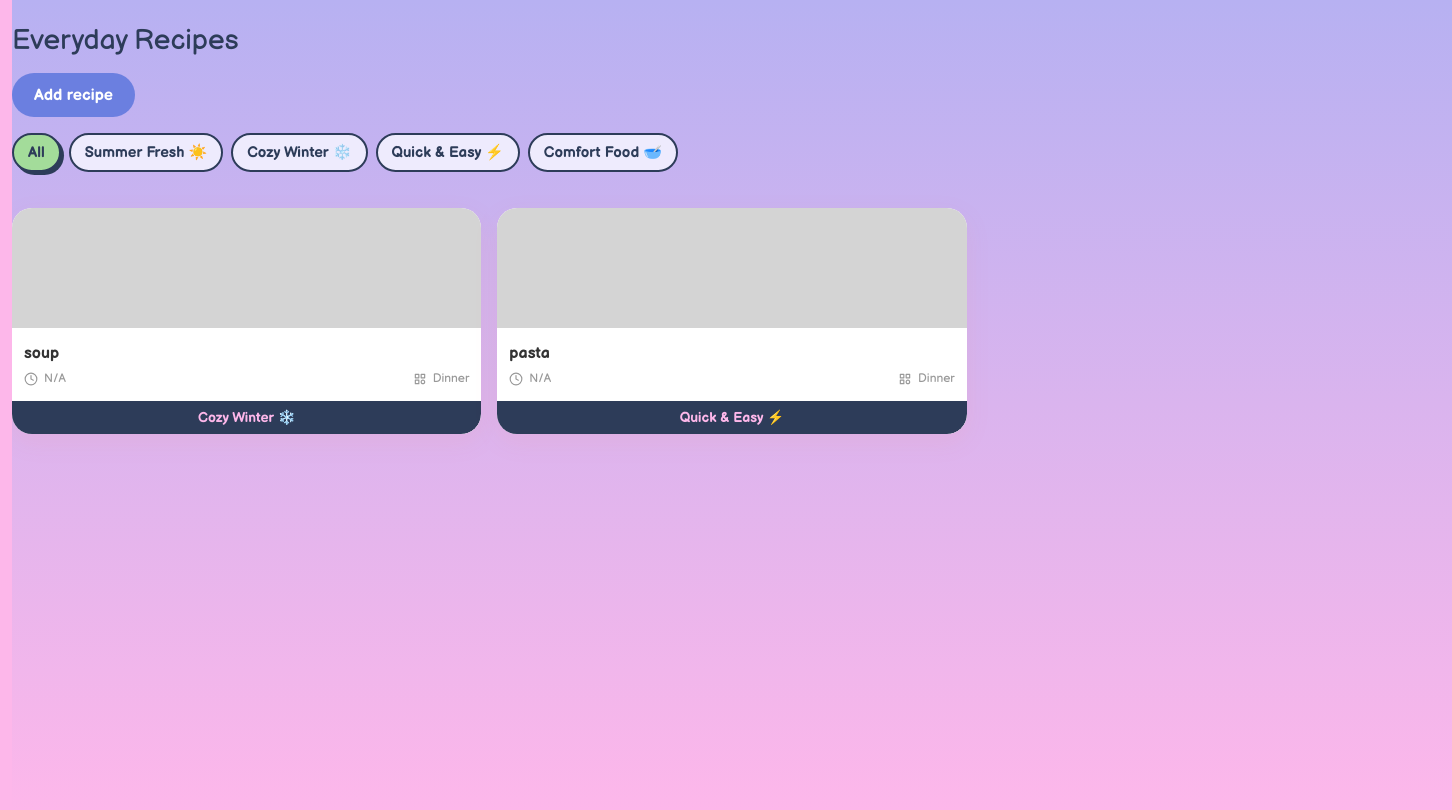
Test: RecipesScreen label filter › says so when no recipe has the chosen label
What coordinates should you click on to do the following:
click the button "Comfort Food 🥣"
I would click on:
 (603, 152)
Its box is [528,133,678,172].
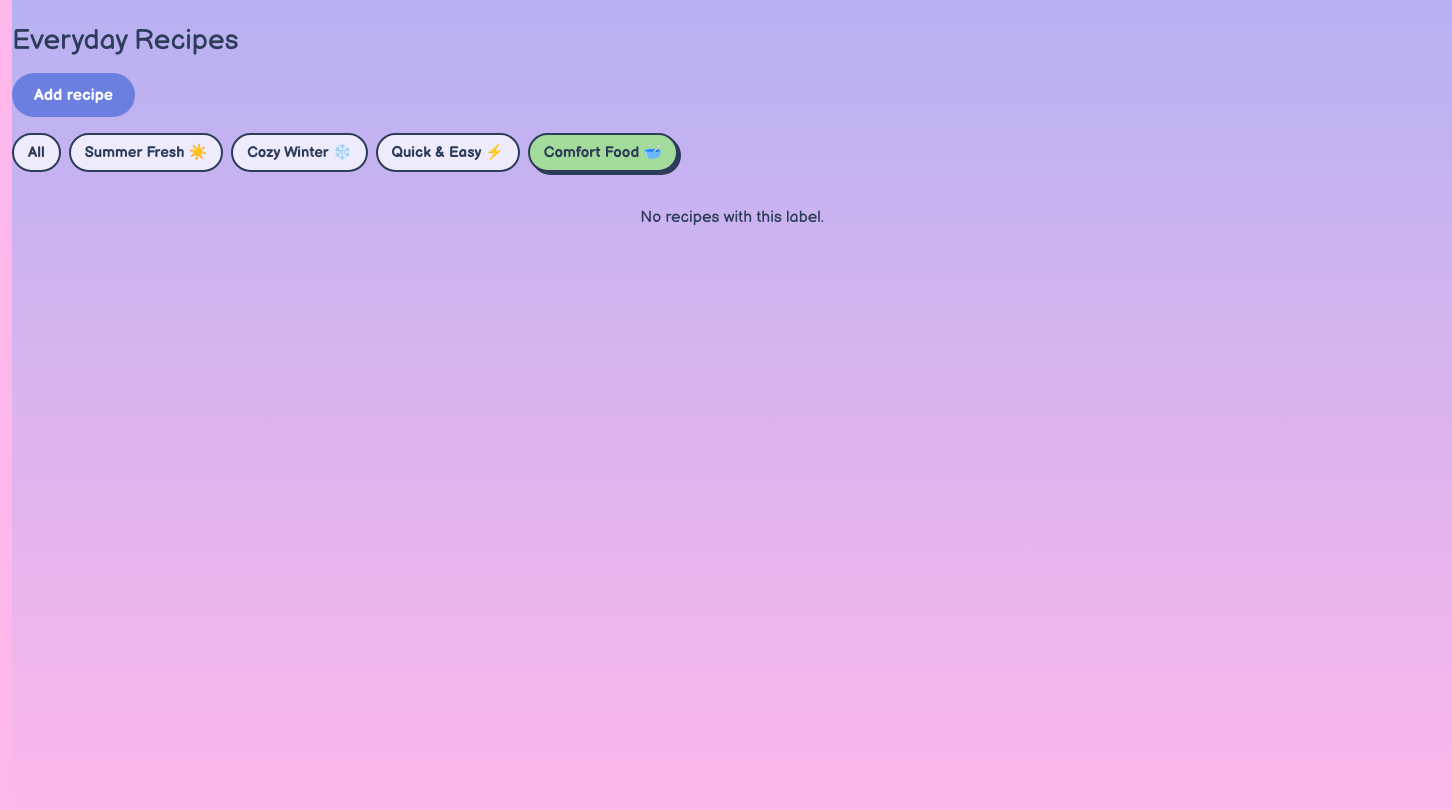
Now the text "No recipes with this label." is shown, box [640,208,824,227]
